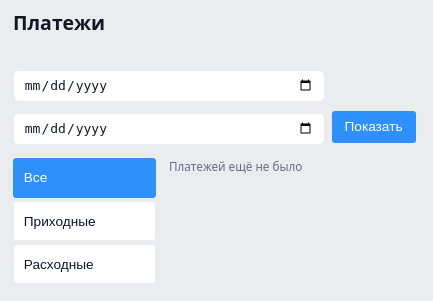
Test: реестр платежей › пустая выдача по отбору и пустая касса — разные слова
The image size is (433, 301).
Expected: the text "Платежей ещё не было" is shown, 169,158 -> 302,174
Click the button "Расходные": point(84, 264) 13,244 -> 156,284
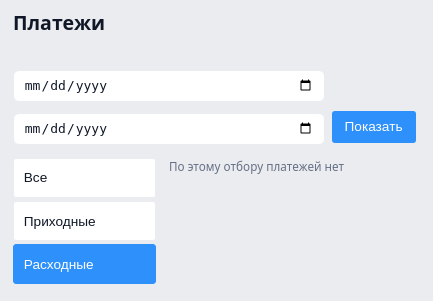
Now the text "По этому отбору платежей нет" is shown, box 169,158 -> 344,174
